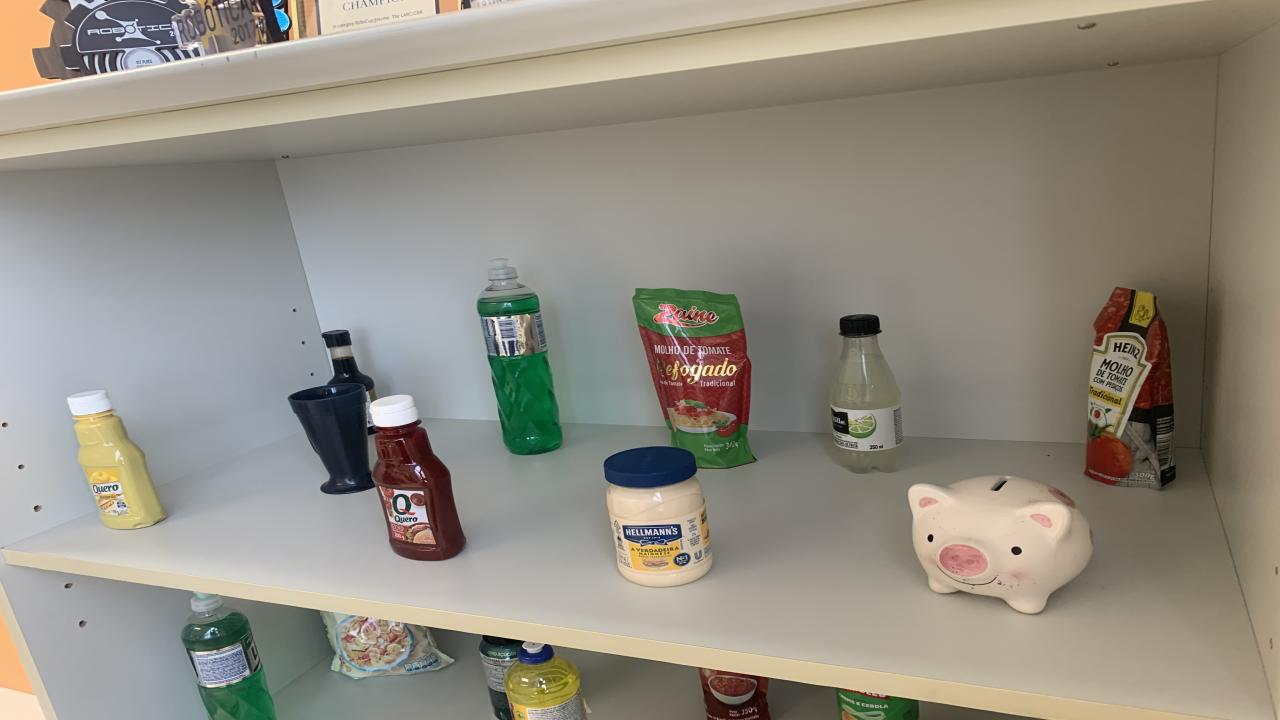Detergent-Cleanup_Items: (478, 259, 562, 454), (180, 592, 275, 720), (505, 641, 588, 720)
English_Sauce-Pantry_Items: (322, 330, 378, 401)
Flakes-Snacks: (320, 611, 452, 679)
Guarana_Can-Drinks: (478, 636, 522, 720)
Ketchup-Pantry_Items: (370, 396, 465, 561)
Mayonnaise-Pantry_Items: (605, 446, 712, 587)
Mustard-Pantry_Items: (68, 390, 165, 529)
Pig_Safe-Miscellaneous: (908, 476, 1092, 613)
Pringles-Snacks: (838, 688, 920, 720)
Soda-Drinks: (830, 315, 902, 472)
Tomato_Sauce-Pantry_Items: (632, 289, 755, 469), (1085, 287, 1175, 489), (700, 668, 770, 720)
